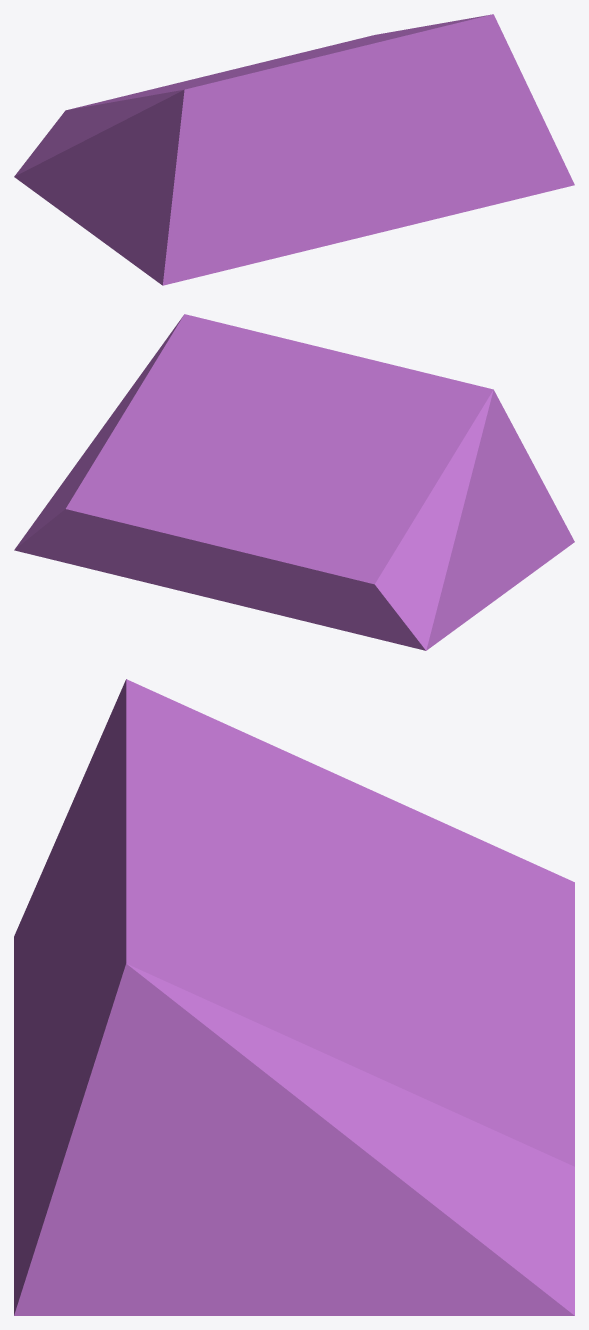
File: Lamp_Backlight.fbx
3 renders of one model, top to bottom at view 1: azimuth 30°, elevation 25°; view 2: azimuth 150°, elevation 25°; view 3: azimuth 270°, elevation 25°, orthographic. The views are drawn at different scales.
Parts seen in each view (by area): view 1: Lamp_Backlight; view 2: Lamp_Backlight; view 3: Lamp_Backlight.
Boxes of the visible parts, bbox=[...] form: Lamp_Backlight: bbox=[14, 14, 574, 285]; Lamp_Backlight: bbox=[14, 314, 574, 650]; Lamp_Backlight: bbox=[14, 679, 574, 1315].
Size of the model in its own units: 60 by 22.5 by 37.5.
